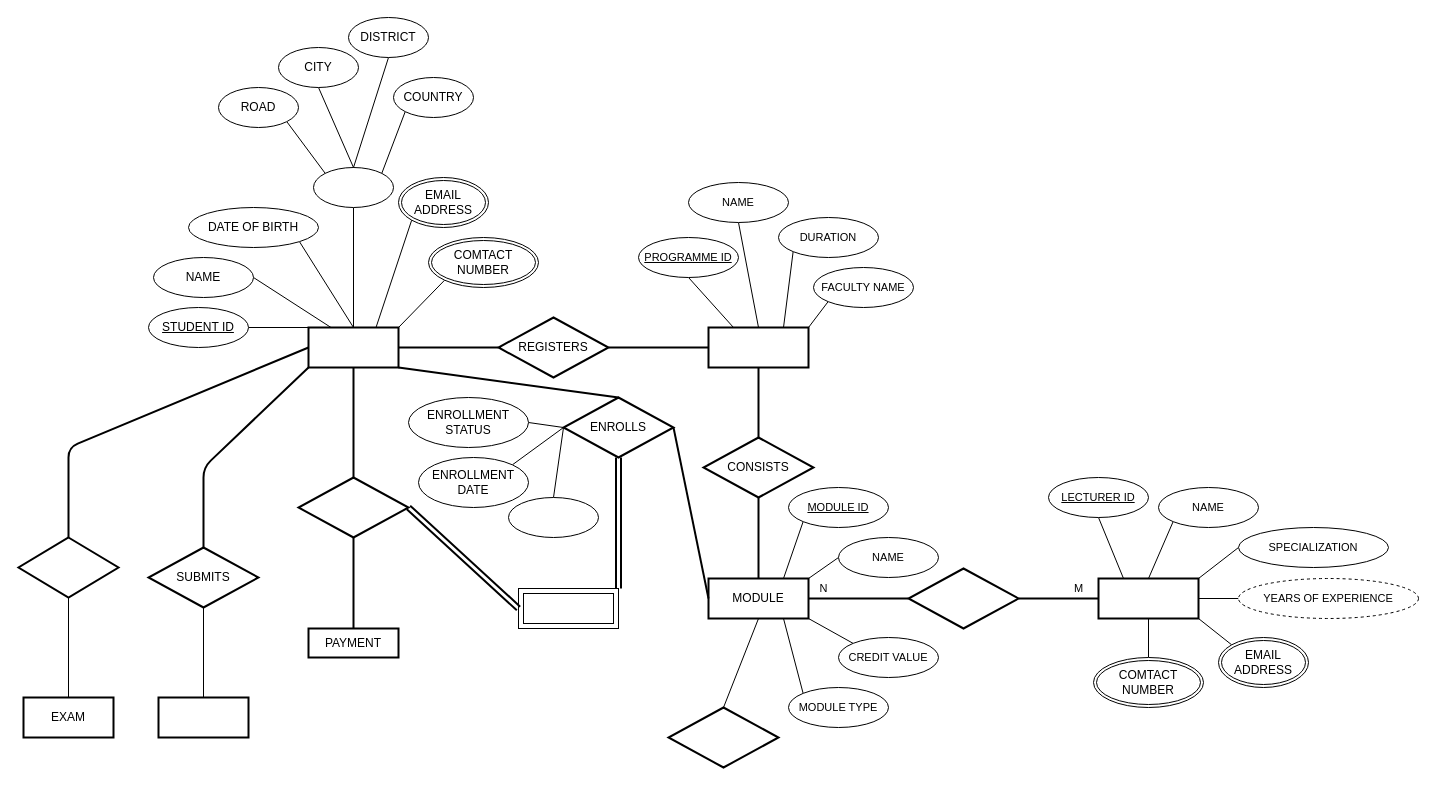
Some shapes in this 1436 by 786 pixel diagram are drawn without their labels. The shapes that lost their labels are listed below. From the top down, each one's centre as x and y in pixels, then its label:
(x=353, y=187): ADDRESS
(x=353, y=347): STUDENT
(x=758, y=347): PROGRAMME
(x=353, y=507): PAY
(x=553, y=517): ACADEMIC YEAR
(x=68, y=567): SITS
(x=568, y=608): SEMESTER
(x=963, y=598): IS TAUGHT
(x=1148, y=598): LECTURER
(x=203, y=717): ASSIGNMENT
(x=723, y=737): HAS
